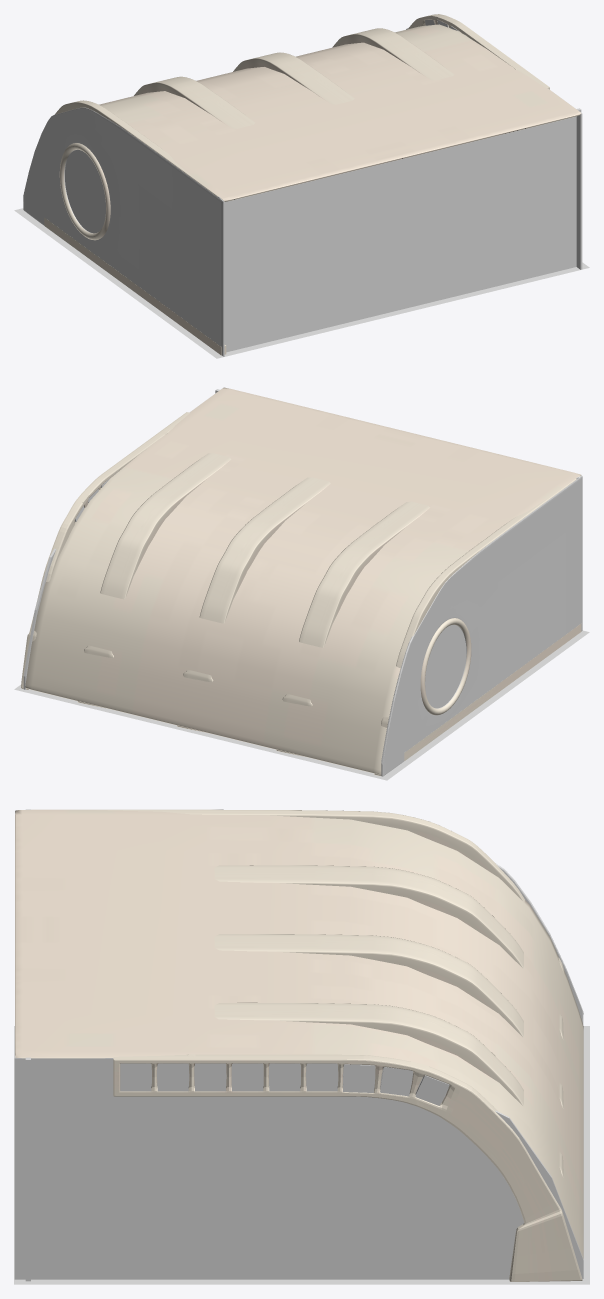
File: entorno_Cor07.fbx
The picture shows the model from 3 angles, top to bottom: view 1: azimuth 30°, elevation 25°; view 2: azimuth 150°, elevation 25°; view 3: azimuth 270°, elevation 25°; orthographic projection. The views are drawn at different scales.
Parts seen in each view (by area): view 1: ParedPiedras, Techo, ParedBambu, BIGA, Piso, cristal, barraPiso, marcoCristal, BigaPared, BigaPared.001, PadredLadrillo; view 2: Techo, ParedBambu, BIGA, Piso, cristal, BigaPared.001, BigaPared, barraPiso, marcoCristal, PadredLadrillo; view 3: Techo, PadredLadrillo, BIGA, BigaPared.001, CuadradoCristal, Piso, BigaPared, ParedPiedras, CuCristal, CuCristal2, CuCristal3.
Boxes of the visible parts, x1,y1,x2,y2 form: ParedPiedras: [218, 108, 581, 352]; Techo: [99, 24, 581, 201]; ParedBambu: [23, 107, 224, 356]; BIGA: [134, 28, 454, 128]; Piso: [14, 208, 589, 358]; cristal: [65, 149, 105, 233]; barraPiso: [44, 217, 226, 355]; marcoCristal: [59, 143, 110, 240]; BigaPared: [55, 100, 218, 196]; BigaPared.001: [408, 14, 549, 89]; PadredLadrillo: [406, 28, 582, 269]; Techo: [25, 387, 581, 774]; ParedBambu: [381, 475, 582, 776]; BIGA: [77, 453, 429, 756]; Piso: [14, 630, 589, 780]; cristal: [425, 625, 466, 708]; BigaPared.001: [21, 412, 189, 689]; BigaPared: [374, 478, 576, 775]; barraPiso: [404, 623, 581, 760]; marcoCristal: [420, 618, 471, 715]; PadredLadrillo: [23, 387, 224, 689]; Techo: [15, 810, 583, 1258]; PadredLadrillo: [14, 1057, 583, 1279]; BIGA: [214, 865, 563, 1177]; BigaPared.001: [113, 1054, 582, 1281]; CuadradoCristal: [120, 1063, 337, 1091]; Piso: [14, 1026, 589, 1284]; BigaPared: [31, 809, 564, 972]; ParedPiedras: [25, 809, 30, 1281]; CuCristal: [343, 1064, 374, 1092]; CuCristal2: [380, 1067, 412, 1096]; CuCristal3: [415, 1075, 449, 1105].
Size of the model in its own units: 3709 by 1499 by 3491.
